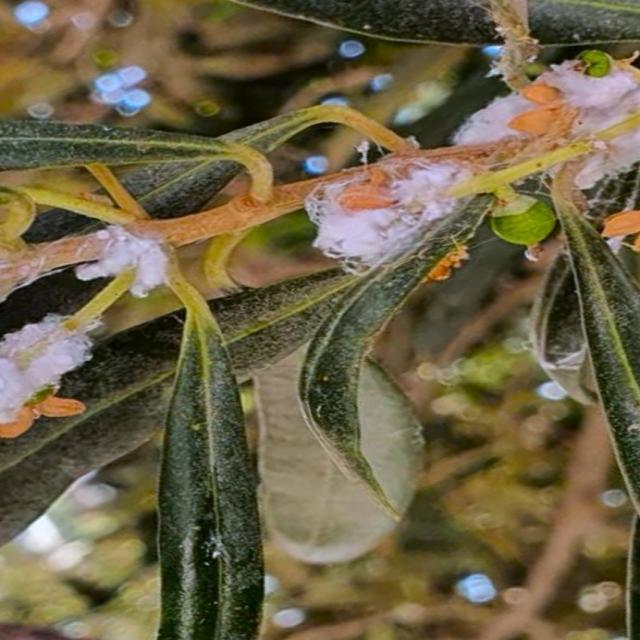Psyllid: (305, 51, 639, 266), (0, 228, 181, 457), (562, 214, 639, 481), (0, 190, 81, 302)
